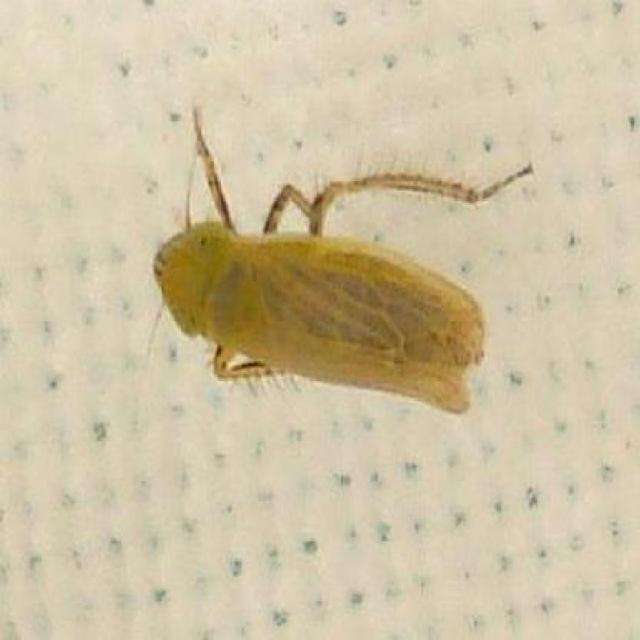green-leafhopper: (153, 111, 542, 412)
